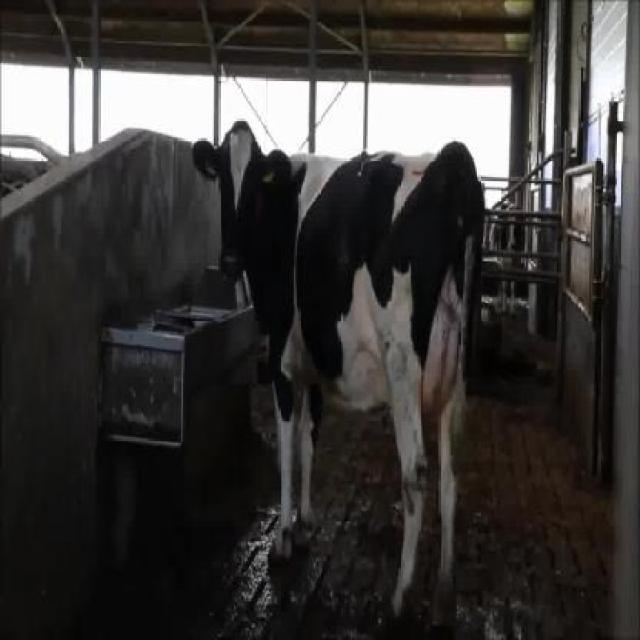Cow: (191, 116, 486, 638)
